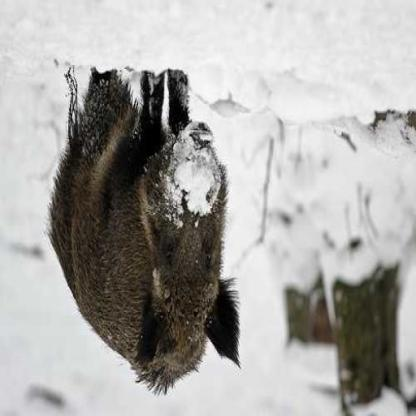boar: (8, 45, 319, 393)
